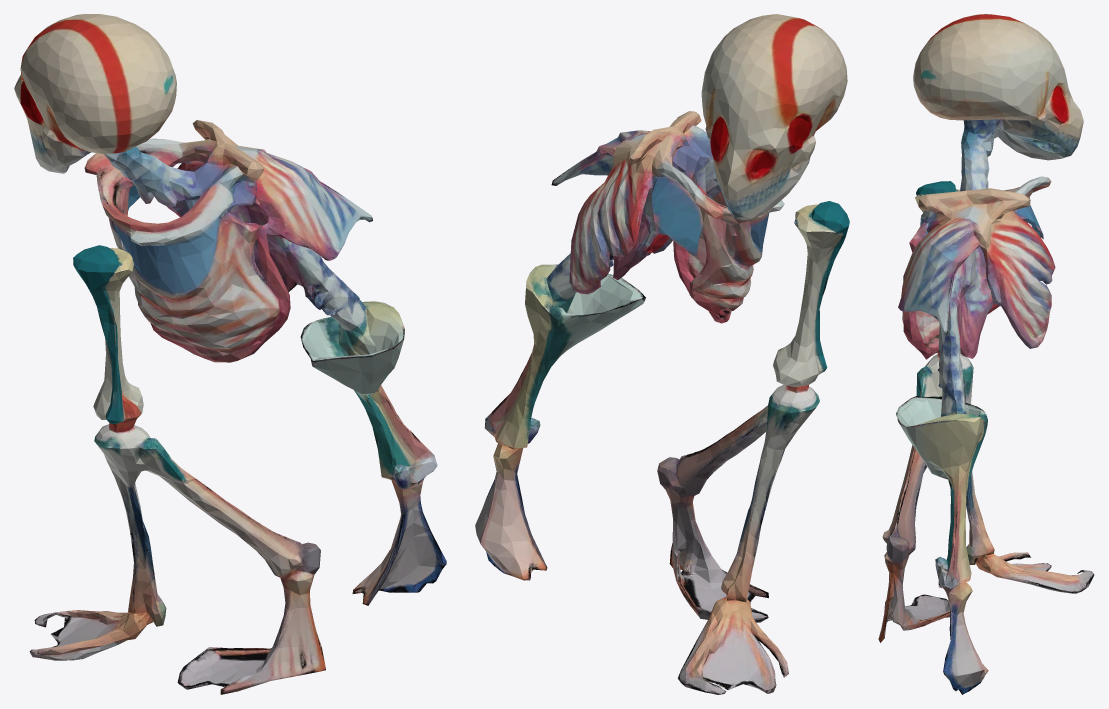
File: skeleton.glb
3 renders of one model, left to right at view 1: azimuth 30°, elevation 25°; view 2: azimuth 150°, elevation 25°; view 3: azimuth 270°, elevation 25°, orthographic. The views are drawn at different scales.
Visible parts, largest first — view 1: geometry_0; view 2: geometry_0; view 3: geometry_0.
Part boxes in pixels (x1,y1,x2,y2): geometry_0: (14, 14, 446, 694); geometry_0: (475, 14, 849, 694); geometry_0: (878, 14, 1094, 694).
Bounding box in the file's own units: 1.1 × 1.8 × 0.63.
1 material, 1 textured.
